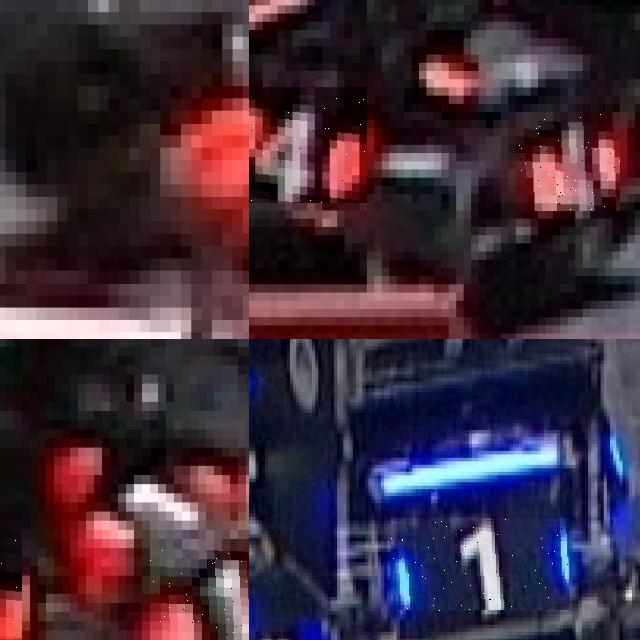B1: (391, 518, 569, 612)
R1: (62, 447, 249, 566), (150, 538, 249, 640)
R4: (249, 87, 367, 202), (516, 112, 620, 211)
